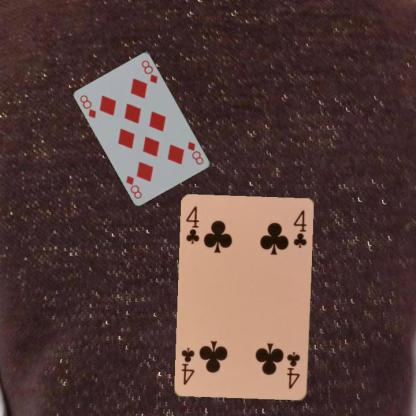4c: (284, 350, 302, 390), (184, 204, 201, 246)
8d: (185, 139, 205, 166), (78, 92, 98, 119)
